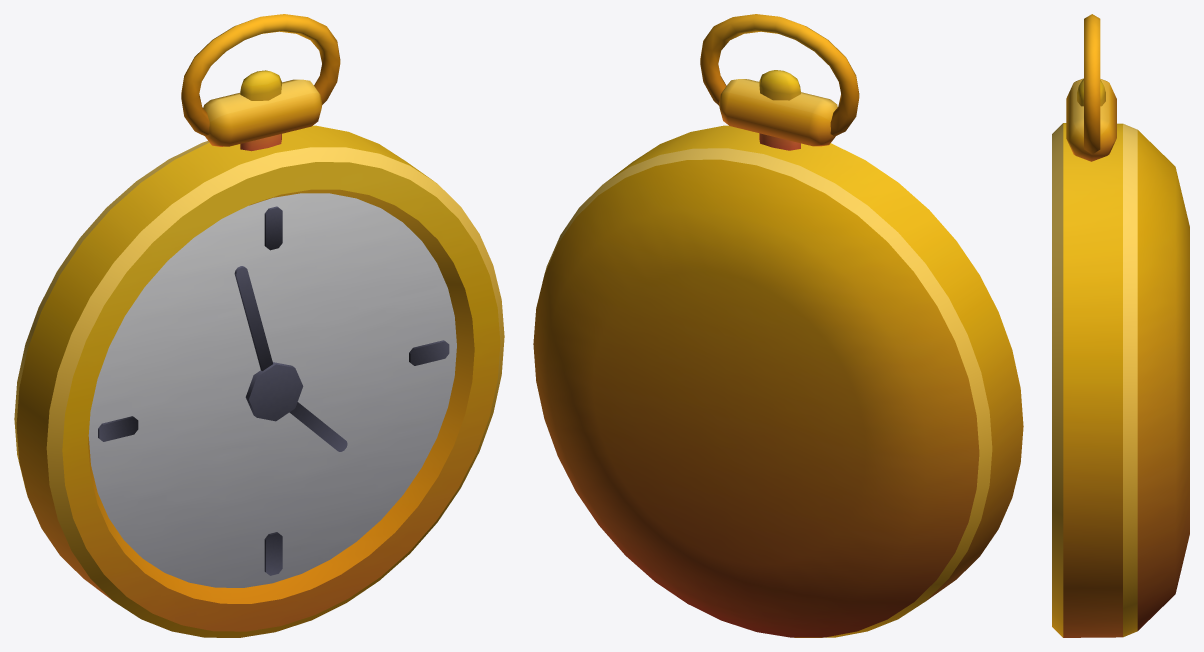
Rendered from O_clock.fbx.
The picture shows the model from 3 angles, left to right: view 1: azimuth 30°, elevation 25°; view 2: azimuth 150°, elevation 25°; view 3: azimuth 270°, elevation 25°; orthographic projection. The views are drawn at different scales.
Parts seen in each view (by area): view 1: O_clock; view 2: O_clock; view 3: O_clock.
Boxes of the visible parts, left/top/right/bottom form: O_clock: left=14, top=14, right=504, bottom=637; O_clock: left=533, top=14, right=1023, bottom=637; O_clock: left=1052, top=14, right=1189, bottom=637.
Bounding box in the file's own units: 20.56 × 25.94 × 5.5.
1 material, 1 textured.
